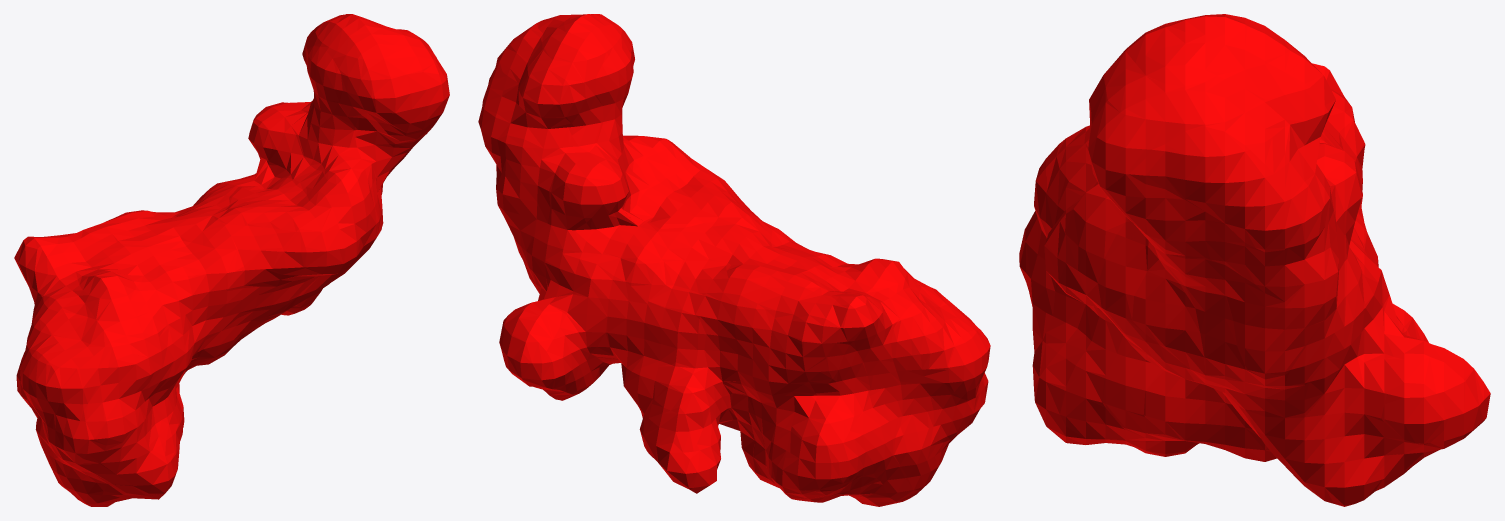
Rendered from purB_coarse.dae.
The picture shows the model from 3 angles, left to right: view 1: azimuth 30°, elevation 25°; view 2: azimuth 150°, elevation 25°; view 3: azimuth 270°, elevation 25°; orthographic projection. The views are drawn at different scales.
Parts seen in each view (by area): view 1: purB; view 2: purB; view 3: purB.
Part boxes in pixels (bbox=[...]): purB: bbox=[14, 14, 449, 506]; purB: bbox=[478, 14, 990, 506]; purB: bbox=[1019, 14, 1490, 506].
Bounding box in the file's own units: 92.62 × 83.22 × 55.49.
